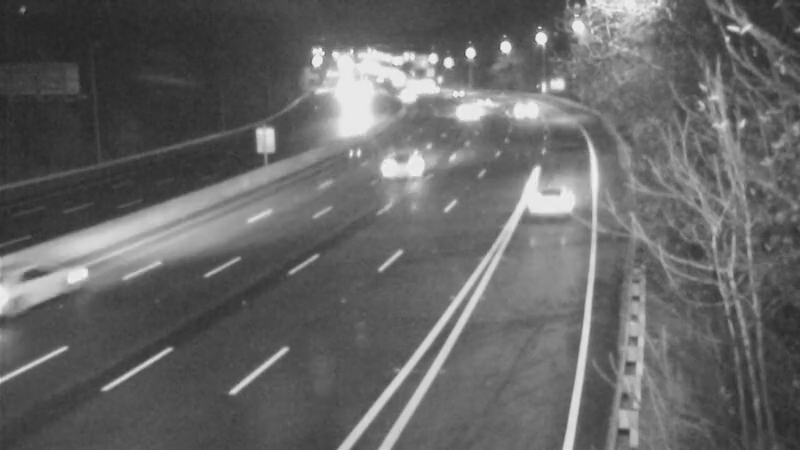vehicle: (369, 124, 449, 204), (507, 162, 587, 242), (1, 250, 72, 330), (381, 73, 431, 123), (429, 65, 479, 115), (459, 74, 509, 124), (438, 87, 488, 137), (499, 83, 549, 133), (326, 95, 376, 145)
